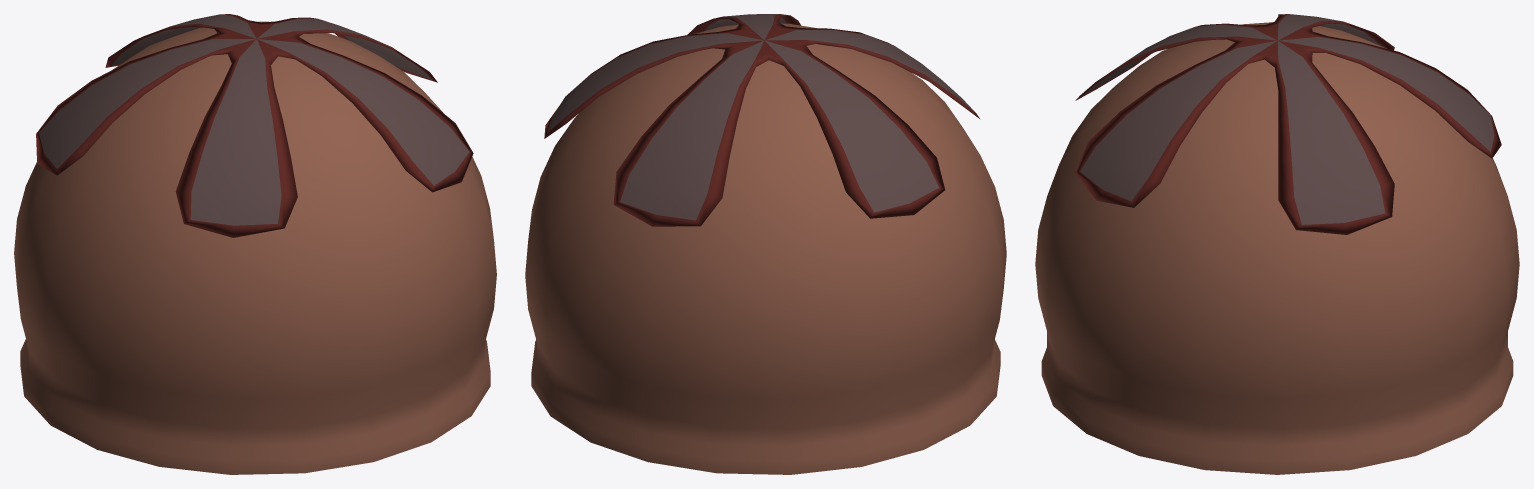
Rendered from BonBon_Star.fbx.
The picture shows the model from 3 angles, left to right: view 1: azimuth 30°, elevation 25°; view 2: azimuth 150°, elevation 25°; view 3: azimuth 270°, elevation 25°; orthographic projection.
Visible parts, largest first — view 1: BonBon_Star; view 2: BonBon_Star; view 3: BonBon_Star.
Part boxes in pixels (bbox=[...]): BonBon_Star: bbox=[14, 14, 496, 474]; BonBon_Star: bbox=[525, 14, 1006, 474]; BonBon_Star: bbox=[1035, 14, 1519, 474].
Bounding box in the file's own units: 25.57 × 19.55 × 25.57.
